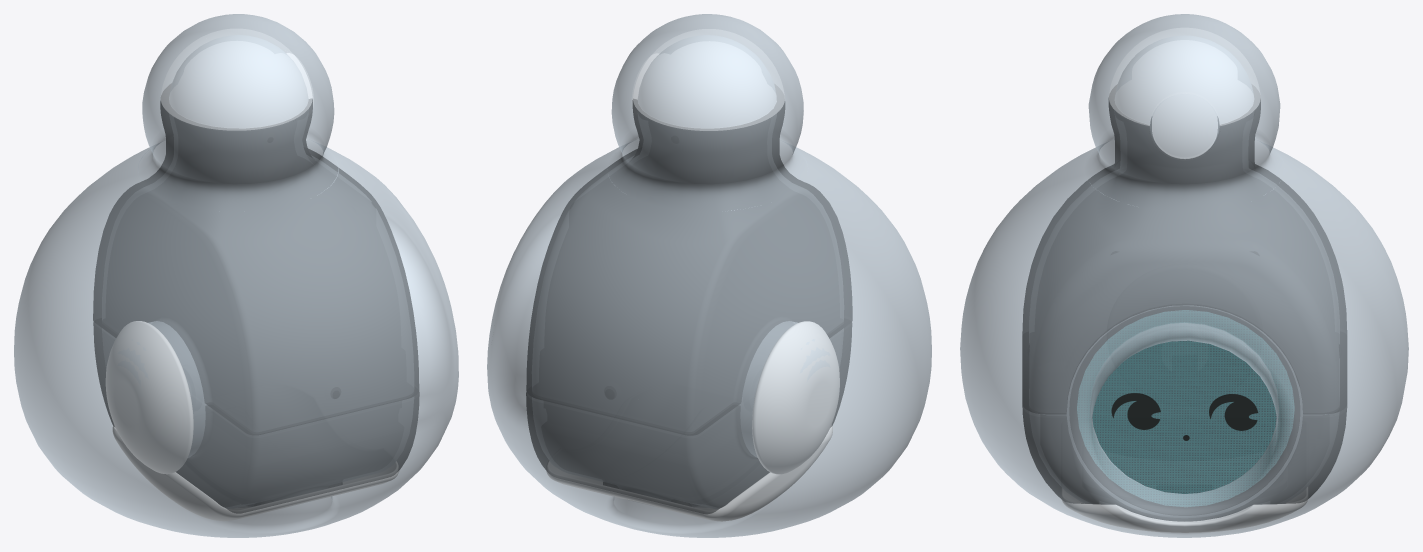
The model's file is omphi_render_for_GLB_6.17_5.glb.
3 renders of one model, left to right at view 1: azimuth 30°, elevation 25°; view 2: azimuth 150°, elevation 25°; view 3: azimuth 270°, elevation 25°, orthographic.
Parts seen in each view (by area): view 1: 렌더용 실리콘 바디, 렌더용 케이스 파츠2, 렌더용 케이스 파츠3, 렌더용 몸통택트스위치 버튼, 렌더용 케이스 파츠4, 렌더용 케이스 파츠1; view 2: 렌더용 실리콘 바디, 렌더용 케이스 파츠2, 렌더용 케이스 파츠3, 렌더용 몸통택트스위치 버튼, 렌더용 케이스 파츠4, 렌더용 케이스 파츠1; view 3: 렌더용 실리콘 바디, 렌더용 케이스 파츠2, Circle, 렌더용 원형LCD, 렌더용 케이스 파츠3, 렌더용 케이스 파츠4, 렌더용 케이스 파츠1.
Boxes of the visible parts, x1,y1,x2,y2 form: 렌더용 실리콘 바디: (14,14,458,537); 렌더용 케이스 파츠2: (93,84,418,434); 렌더용 케이스 파츠3: (93,322,419,513); 렌더용 몸통택트스위치 버튼: (105,321,193,474); 렌더용 케이스 파츠4: (112,425,399,521); 렌더용 케이스 파츠1: (161,29,311,129); 렌더용 실리콘 바디: (487,14,931,537); 렌더용 케이스 파츠2: (526,85,852,435); 렌더용 케이스 파츠3: (526,322,851,513); 렌더용 몸통택트스위치 버튼: (752,321,839,474); 렌더용 케이스 파츠4: (546,425,832,521); 렌더용 케이스 파츠1: (633,29,784,130); 렌더용 실리콘 바디: (960,14,1408,537); 렌더용 케이스 파츠2: (1022,85,1346,414); Circle: (1077,310,1294,506); 렌더용 원형LCD: (1067,306,1302,515); 렌더용 케이스 파츠3: (1022,404,1346,521); 렌더용 케이스 파츠4: (1062,487,1307,532); 렌더용 케이스 파츠1: (1109,28,1260,125).
Size of what is drawn, in the model's own units: 2.39 by 3.05 by 2.62.
Materials: 5 (1 with a texture image).
